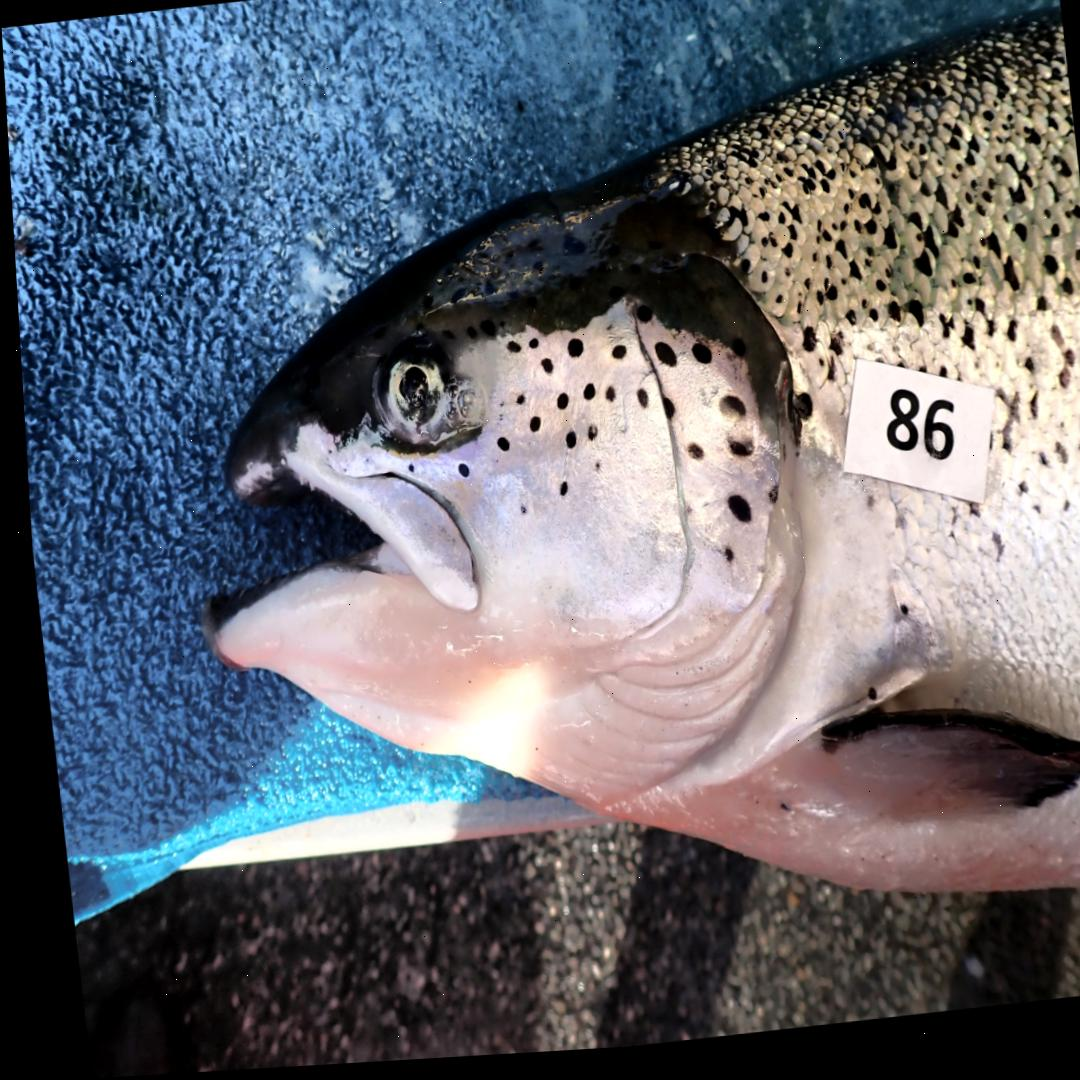spot: (720, 503, 744, 532), (713, 404, 740, 426), (649, 350, 672, 375), (721, 447, 748, 465), (687, 351, 707, 372), (562, 344, 579, 364), (681, 450, 698, 469), (632, 313, 648, 331), (656, 406, 669, 426), (726, 346, 739, 364), (577, 389, 589, 408), (631, 396, 643, 414), (551, 398, 563, 416), (607, 351, 621, 366), (560, 436, 570, 455), (536, 364, 548, 379), (491, 442, 503, 457), (524, 421, 535, 437), (501, 347, 515, 359), (451, 468, 463, 482), (600, 393, 609, 409), (762, 496, 771, 512), (581, 431, 590, 446), (716, 557, 726, 570), (511, 399, 520, 411), (554, 487, 561, 502), (524, 344, 533, 355), (514, 512, 519, 520), (588, 470, 593, 476)
